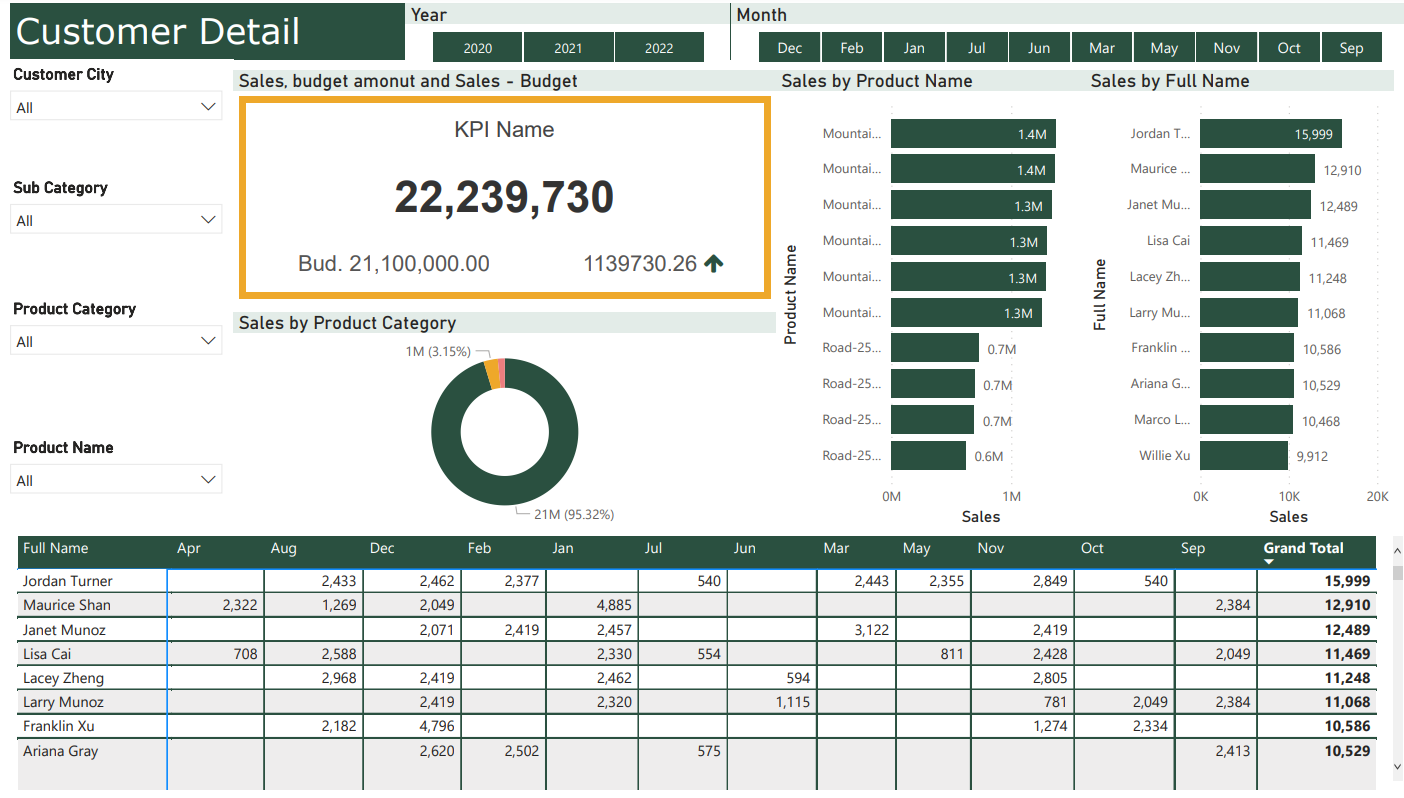

Layout of this report page (visuals, bound fields, positions):
{"tool":"powerbi","page":{"name":"Customer Detail","canvas":[1280,720],"ordinal":1},"visuals":[{"type":"textbox","box":[9.6,0,1270.4,50.8],"z":0},{"type":"slicer","title":"Customer City","fields":{"Values":["DIM_Customers.Customer City"]},"box":[0,50.8,212.9,82.4],"z":1000},{"type":"slicer","title":"Customer City","fields":{"Values":["DIM_Products.Sub Category"]},"box":[0,153.8,212.9,57.7],"z":2000},{"type":"slicer","title":"Customer City","fields":{"Values":["DIM_Products.Product Category"]},"box":[0,263.7,212.9,57.7],"z":3000},{"type":"slicer","title":"Customer City","fields":{"Values":["DIM_Products.Product Name"]},"box":[0,390,212.9,57.7],"z":4000},{"type":"BBED0A4D4D8D44CE93CF2DAFADEE466C","fields":{"actual":["key mesures.Sales"],"target1":["key mesures.budget amonut"],"target2":["key mesures.Sales - Budget"]},"box":[212.9,60.4,493,212.9],"z":7000},{"type":"donutChart","fields":{"Y":["key mesures.Sales"],"Category":["DIM_Products.Product Category"]},"box":[212.9,280.2,493,199.1],"z":8000},{"type":"barChart","fields":{"Y":["key mesures.Sales"],"Category":["DIM_Products.Product Name"]},"box":[705.9,60.4,281.5,418.9],"z":9000},{"type":"barChart","fields":{"Y":["key mesures.Sales"],"Category":["DIM_Customers.Full Name"]},"box":[987.5,60.4,280.2,418.9],"z":10000},{"type":"pivotTable","fields":{"Values":["key mesures.Sales"],"Columns":["DIM_Calendar.MonthShort"],"Rows":["DIM_Customers.Full Name"]},"box":[12.4,479.3,1267.6,240.3],"z":11000},{"type":"slicer","title":"Year","fields":{"Values":["DIM_Calendar.Year"]},"box":[369.4,0,295.3,60.4],"z":11001},{"type":"slicer","title":"Month","fields":{"Values":["DIM_Calendar.MonthShort"]},"box":[664.7,0,615.3,60.4],"z":11002}]}

Visuals, with their boxes in screenshot pixels (x1, y1, x2, y2), scaled from the page's 1280x720 canvas onto the 1404x798 screenshot:
textbox: bbox=(11, 0, 1403, 56)
"Customer City" slicer: bbox=(0, 56, 234, 148)
"Customer City" slicer: bbox=(0, 170, 234, 234)
"Customer City" slicer: bbox=(0, 292, 234, 356)
"Customer City" slicer: bbox=(0, 432, 234, 496)
BBED0A4D4D8D44CE93CF2DAFADEE466C - key mesures.Sales x key mesures.budget amonut: bbox=(234, 67, 774, 303)
donutChart - key mesures.Sales x DIM_Products.Product Category: bbox=(234, 311, 774, 531)
barChart - key mesures.Sales x DIM_Products.Product Name: bbox=(774, 67, 1083, 531)
barChart - key mesures.Sales x DIM_Customers.Full Name: bbox=(1083, 67, 1391, 531)
pivotTable - key mesures.Sales x DIM_Calendar.MonthShort: bbox=(14, 531, 1403, 797)
"Year" slicer: bbox=(405, 0, 729, 67)
"Month" slicer: bbox=(729, 0, 1403, 67)
